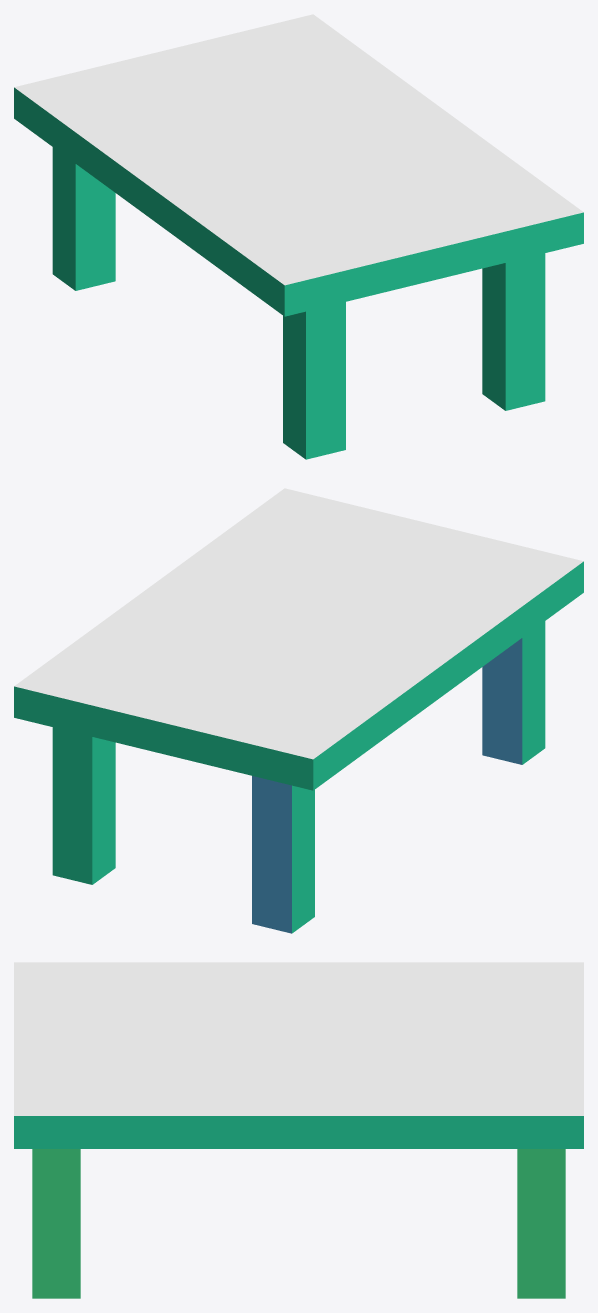
File: table.glb
The picture shows the model from 3 angles, top to bottom: view 1: azimuth 30°, elevation 25°; view 2: azimuth 150°, elevation 25°; view 3: azimuth 270°, elevation 25°; orthographic projection. The views are drawn at different scales.
Visible parts, largest first — view 1: top, cuboid (×3); view 2: top, cuboid (×3); view 3: top, cuboid (×2).
Boxes of the visible parts, box(x1,y1,x2,y2) form: top: box(14, 14, 583, 316); cuboid (×3): box(52, 147, 545, 459); top: box(14, 488, 583, 790); cuboid (×3): box(52, 621, 545, 933); top: box(14, 962, 583, 1148); cuboid (×2): box(32, 1149, 565, 1298).
Bounding box in the file's own units: 0.1875 × 0.1125 × 0.2937.
1 material, 1 textured.
